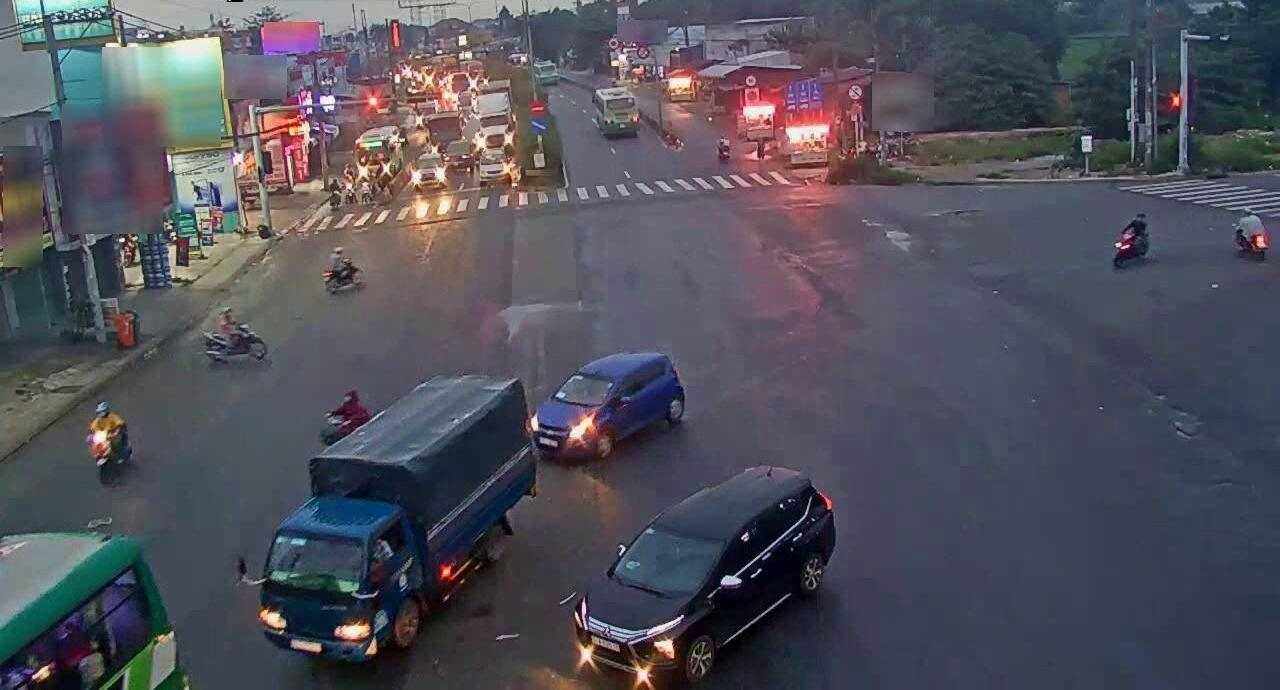xe hoi: (554, 464, 834, 690), (528, 347, 686, 460)
xe may: (199, 302, 270, 366), (86, 399, 138, 478), (319, 243, 363, 298)
xe tai: (263, 379, 536, 648)
